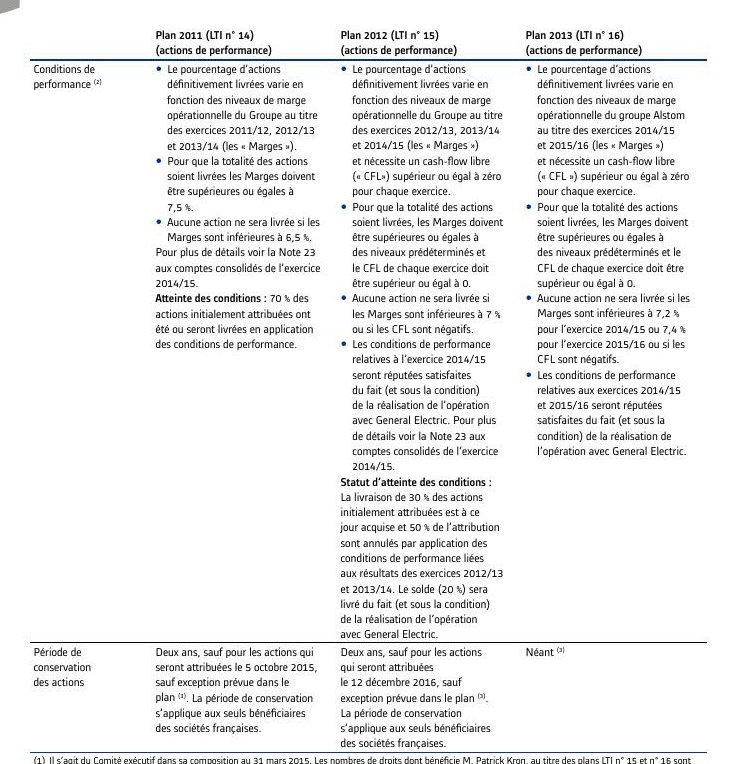table: (0, 0, 732, 764)
